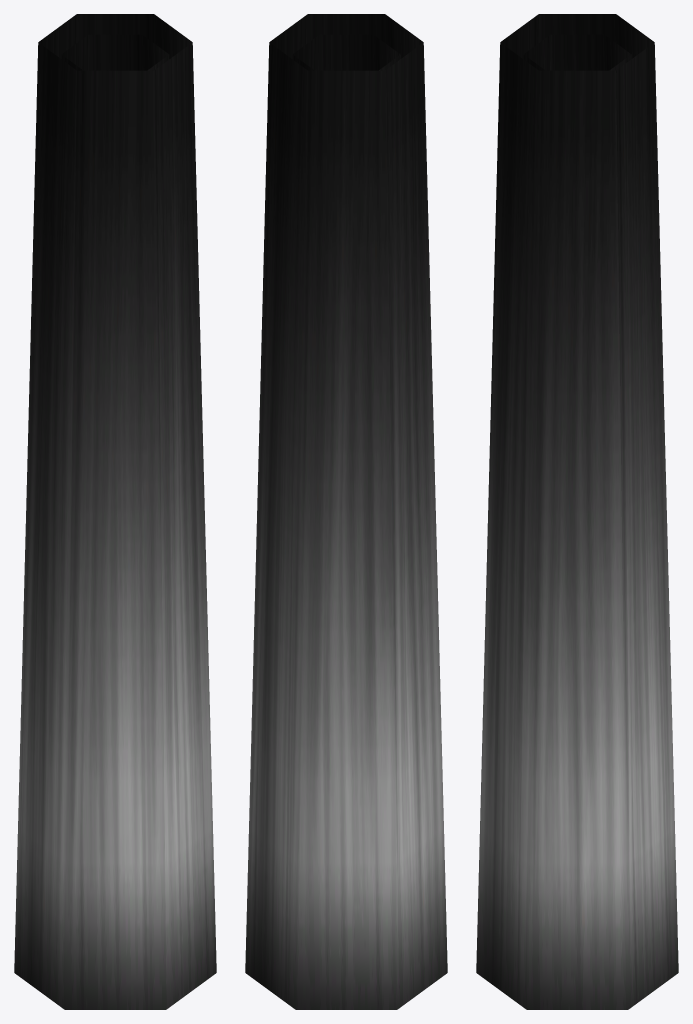
The model's file is HexHighlight.fbx.
3 views of the same model, side by side, from view 1: azimuth 30°, elevation 25°; view 2: azimuth 150°, elevation 25°; view 3: azimuth 270°, elevation 25° (orthographic).
Parts seen in each view (by area): view 1: HexHighlight, QuestLightInner; view 2: HexHighlight, QuestLightInner; view 3: HexHighlight, QuestLightInner.
Boxes of the visible parts, bbox=[...] form: HexHighlight: bbox=[14, 14, 216, 1009]; QuestLightInner: bbox=[61, 34, 169, 70]; HexHighlight: bbox=[245, 14, 447, 1009]; QuestLightInner: bbox=[292, 34, 400, 70]; HexHighlight: bbox=[476, 14, 678, 1009]; QuestLightInner: bbox=[523, 34, 631, 70].
Size of the model in its own units: 2.99 by 17.51 by 3.45.
